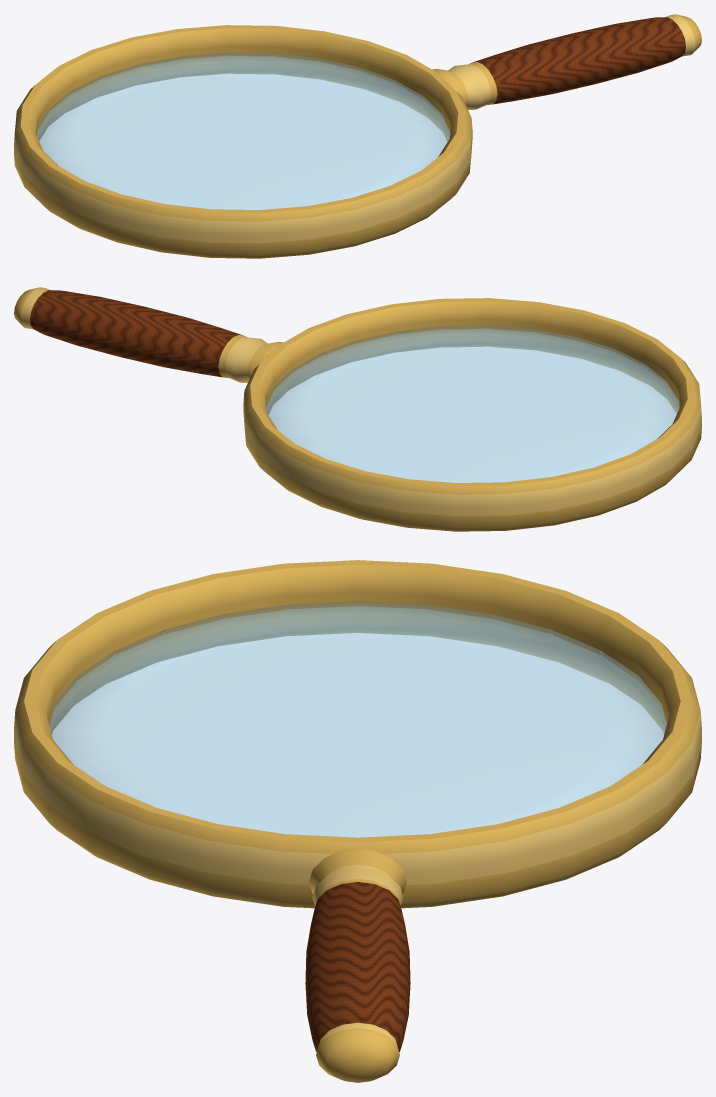
The model's file is table_loupe.glb.
3 views of the same model, one above another, from view 1: azimuth 30°, elevation 25°; view 2: azimuth 150°, elevation 25°; view 3: azimuth 270°, elevation 25° (orthographic). The views are drawn at different scales.
Parts seen in each view (by area): view 1: table_loupe; view 2: table_loupe; view 3: table_loupe.
Boxes of the visible parts, x1,y1,x2,y2 form: table_loupe: (14, 14, 701, 258); table_loupe: (14, 287, 701, 531); table_loupe: (14, 560, 701, 1082).
Size of the model in its own units: 9 by 0.6 by 5.5.
Materials: 4 (1 with a texture image).
